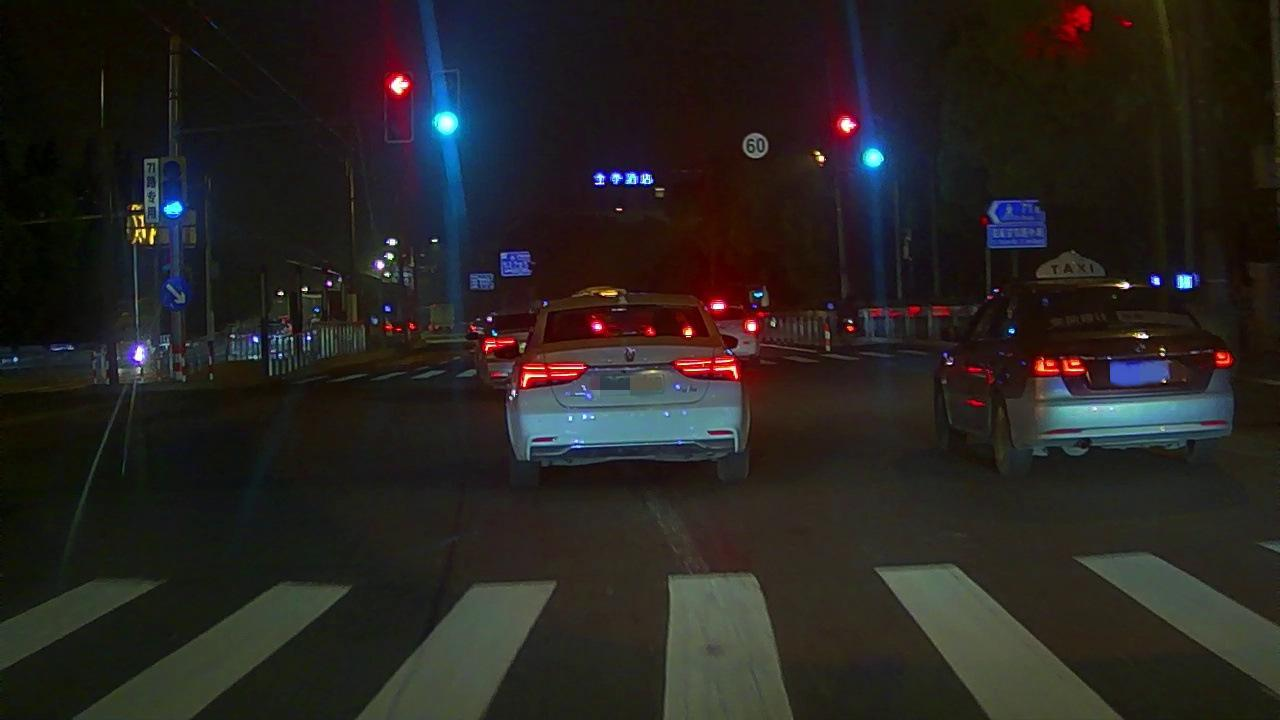traffic_light: (432, 72, 459, 139), (387, 75, 411, 144), (839, 103, 860, 153), (865, 136, 885, 187)
